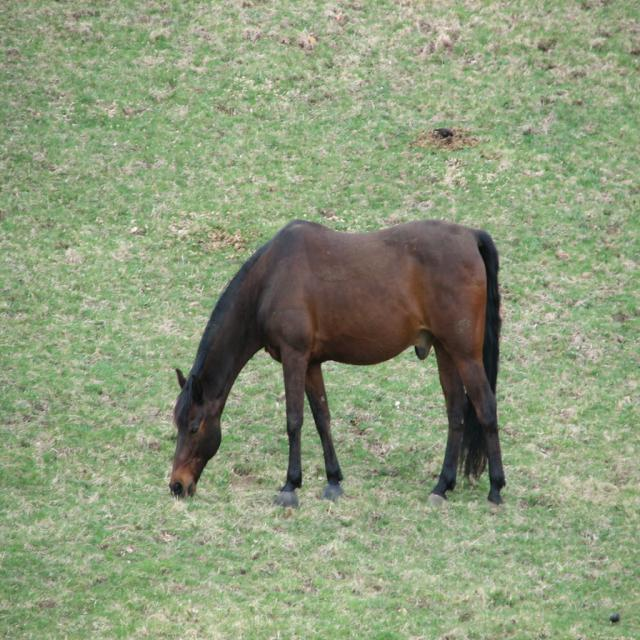Horse: (167, 218, 506, 509)
